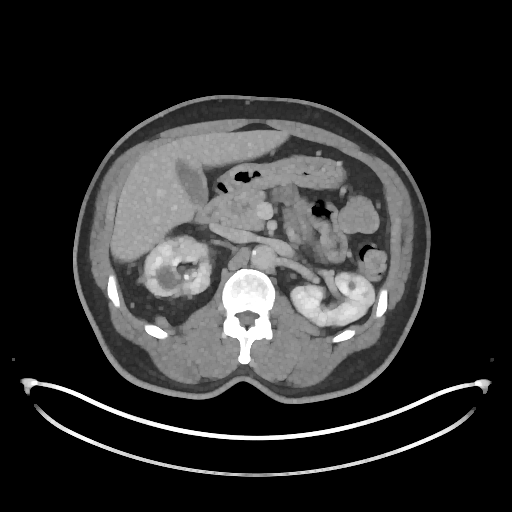Lesion: (181, 269, 198, 282)
